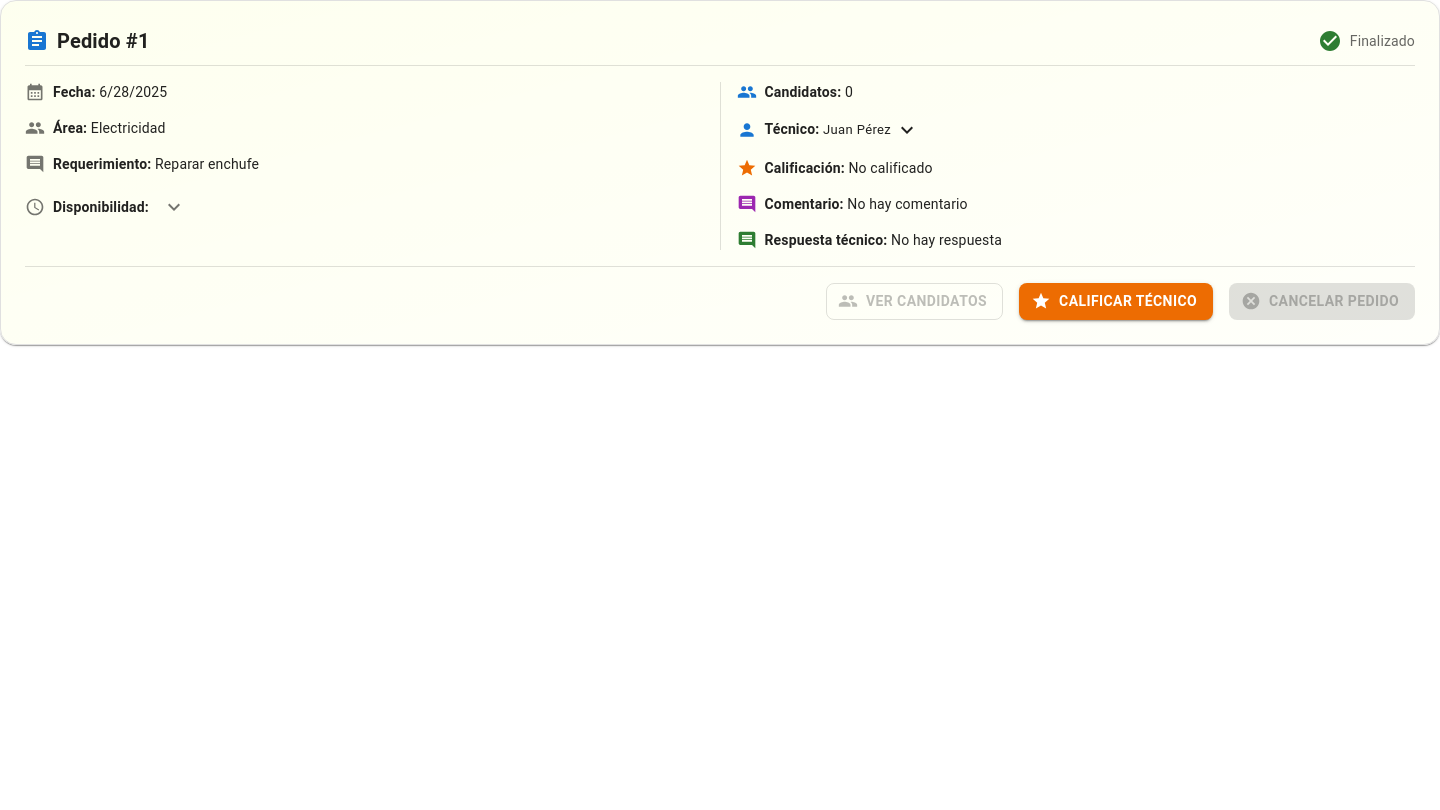
Test: PedidoCardCliente › muestra error si no se selecciona calificación
Click the button "Calificar Técnico" at coordinates (1116, 301), box [1019,283,1213,320]
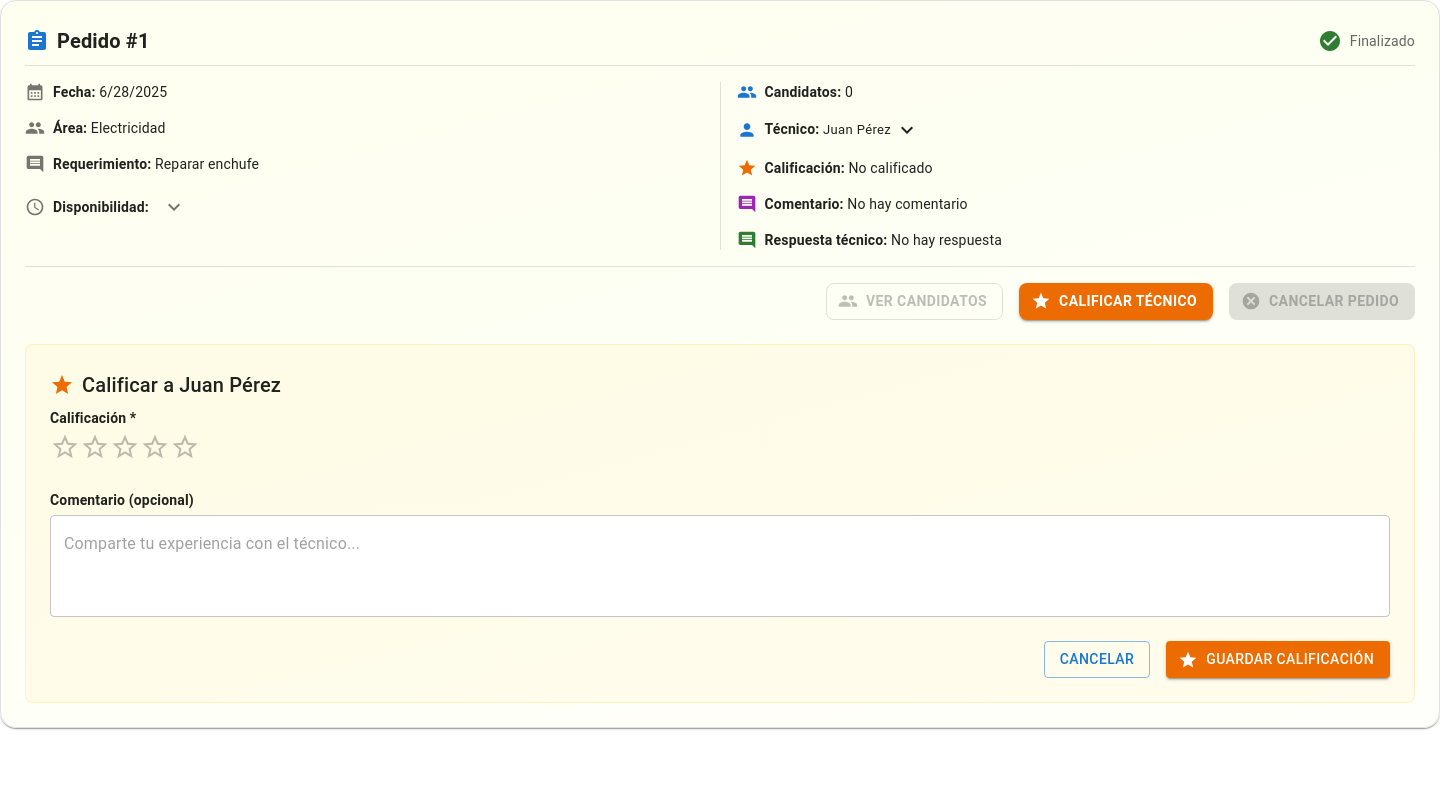
Click the button "Guardar Calificación" at coordinates (1278, 660), box [1166,641,1390,678]
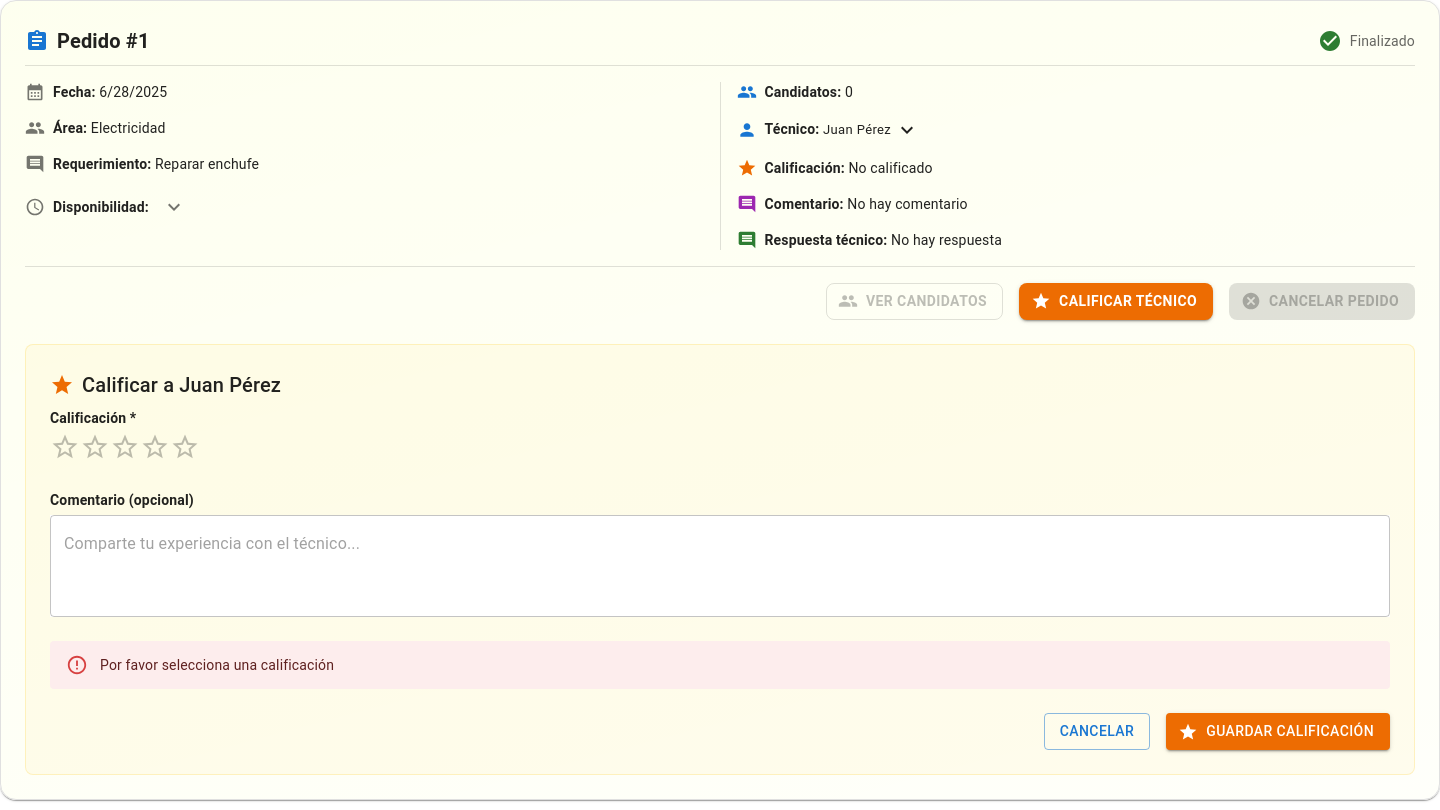
Result: the message reads "Por favor selecciona una calificación" at [100,657,334,673]
